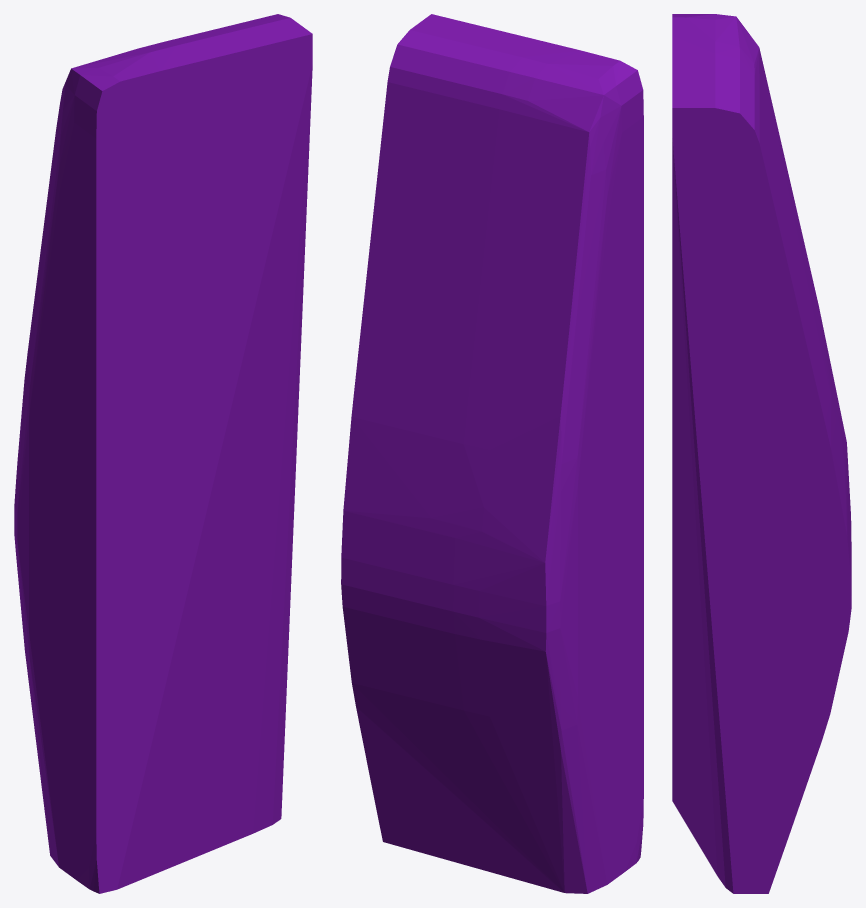
File: left-shoulder-pitch-0_part_51.obj
3 views of the same model, side by side, from view 1: azimuth 30°, elevation 25°; view 2: azimuth 150°, elevation 25°; view 3: azimuth 270°, elevation 25° (orthographic). The views are drawn at different scales.
Bounding box in the file's own units: 0.0142 × 0.0508 × 0.0105.
